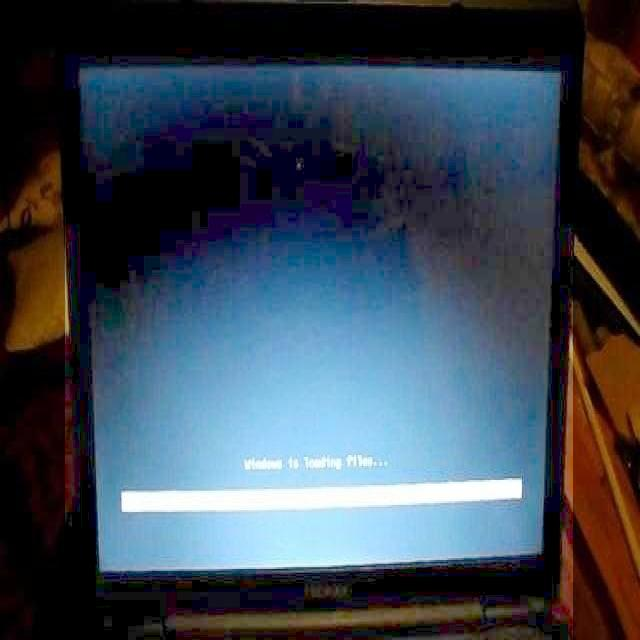-keyboard-: (65, 45, 573, 640)
